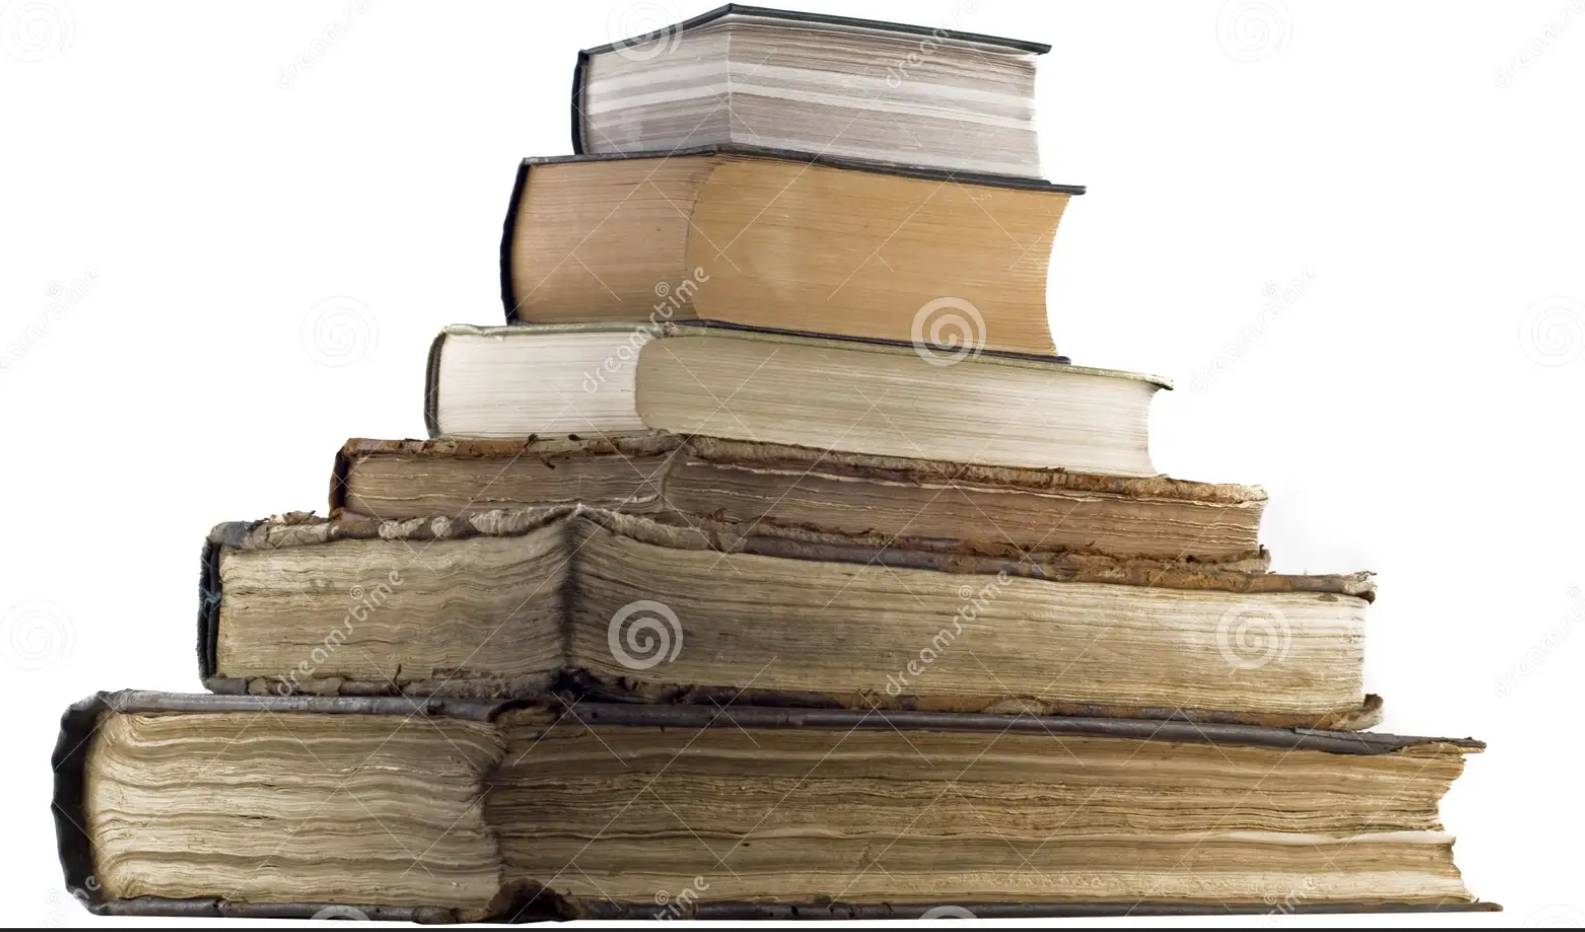book: (47, 683, 1508, 919), (192, 515, 1376, 726), (321, 421, 1305, 553), (417, 317, 1169, 467), (509, 155, 1079, 349), (552, 22, 1048, 178)
